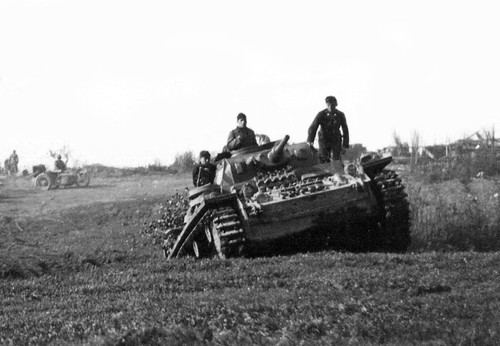grass: (13, 242, 500, 346)
sky: (9, 1, 500, 146)
soldier: (307, 86, 351, 167), (227, 111, 264, 157), (181, 153, 220, 183)
tank: (181, 161, 410, 258)
